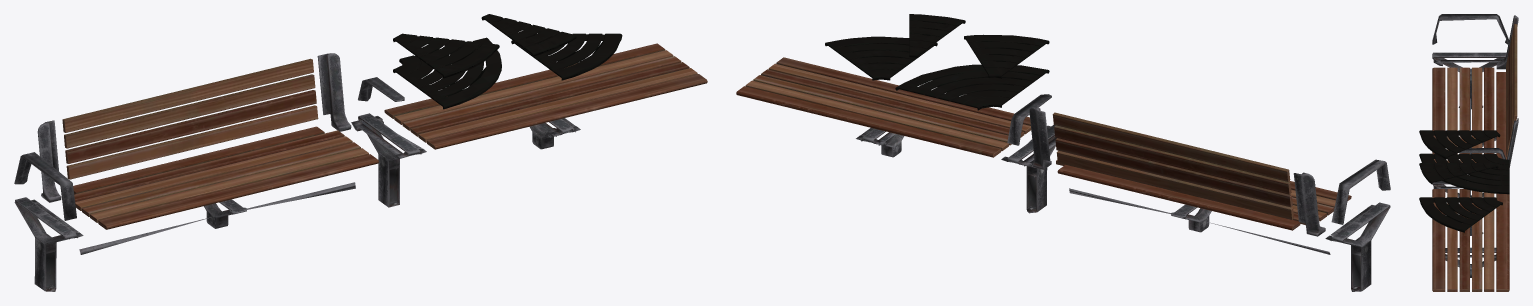
The model's file is scene-seating.glb.
The picture shows the model from 3 angles, left to right: view 1: azimuth 30°, elevation 25°; view 2: azimuth 150°, elevation 25°; view 3: azimuth 270°, elevation 25°; orthographic projection. The views are drawn at different scales.
Visible parts, largest first — view 1: seat, seat_back, connector_60, legs_double, crossbar; view 2: seat, seat_back, connector_60, legs_double, crossbar; view 3: seat, connector_60, legs_double, crossbar, seat_back.
Part boxes in pixels (bbox=[...]): seat: bbox=[73, 43, 707, 229]; seat_back: bbox=[62, 58, 318, 179]; connector_60: bbox=[393, 14, 622, 109]; legs_double: bbox=[14, 113, 580, 291]; crossbar: bbox=[14, 53, 404, 254]; seat: bbox=[736, 57, 1351, 230]; seat_back: bbox=[1052, 112, 1294, 219]; connector_60: bbox=[825, 14, 1049, 110]; legs_double: bbox=[856, 125, 1390, 291]; crossbar: bbox=[1007, 94, 1390, 254]; seat: bbox=[1432, 67, 1509, 291]; connector_60: bbox=[1419, 130, 1509, 232]; legs_double: bbox=[1432, 52, 1506, 277]; crossbar: bbox=[1432, 14, 1518, 195]; seat_back: bbox=[1506, 24, 1517, 157].
Bounding box in the file's own units: 4.34 × 0.9499 × 0.7703.
Materials: 4 (4 with a texture image).
